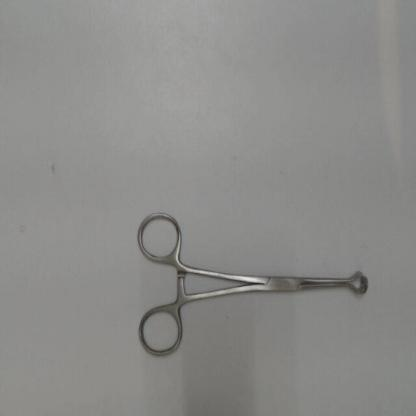Babcock Tissue Forceps: (133, 205, 371, 363)
